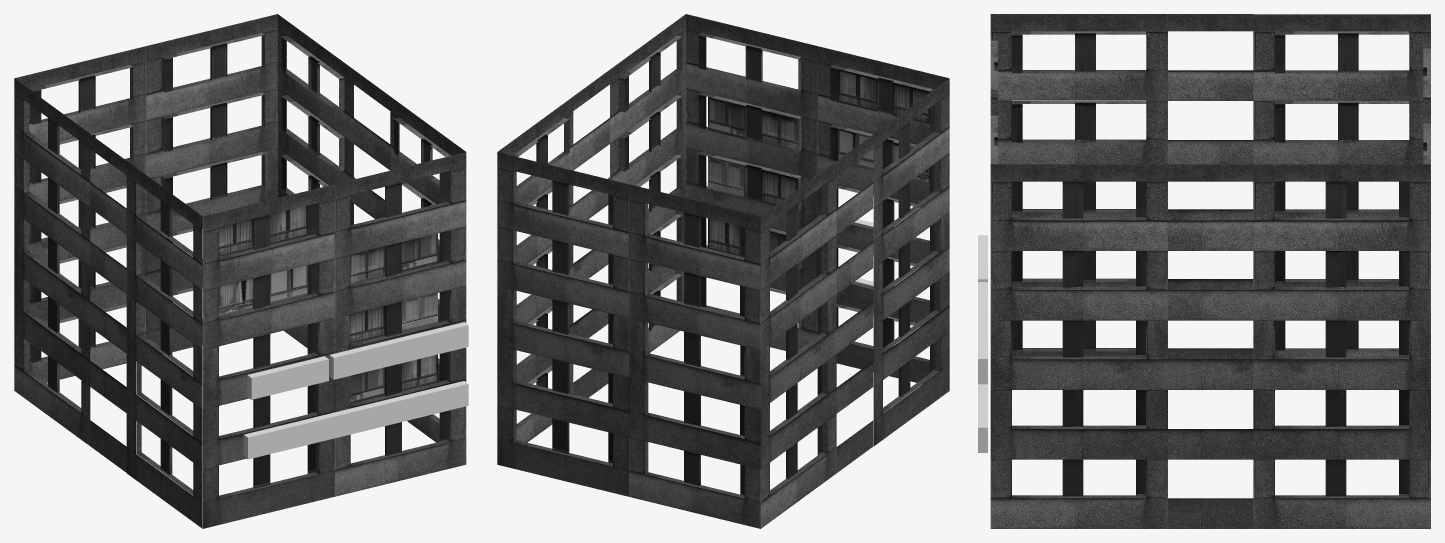
The model's file is skidrow_building_8.fbx.
3 views of the same model, side by side, from view 1: azimuth 30°, elevation 25°; view 2: azimuth 150°, elevation 25°; view 3: azimuth 270°, elevation 25° (orthographic). The views are drawn at different scales.
Parts seen in each view (by area): view 1: building_7_008, Box001, Box002, Box003, Plane023, Plane021, Plane027, Plane025, Plane022, Plane020, Plane024, Plane026 (+2 smaller); view 2: building_7_008, Plane021, Plane027, Plane025, Plane024, Plane026, Plane029, Plane020, Plane023; view 3: building_7_008, Box002, Box001.
Part boxes in pixels (left/top/right/bottom): building_7_008: left=14, top=14, right=466, bottom=528; Box001: left=243, top=381, right=468, bottom=459; Box002: left=329, top=322, right=468, bottom=379; Box003: left=247, top=356, right=328, bottom=399; Plane023: left=270, top=265, right=307, bottom=304; Plane021: left=270, top=205, right=307, bottom=244; Plane027: left=402, top=293, right=437, bottom=331; Plane025: left=402, top=233, right=437, bottom=272; Plane022: left=219, top=278, right=253, bottom=316; Plane020: left=219, top=219, right=253, bottom=257; Plane024: left=350, top=246, right=384, bottom=284; Plane026: left=350, top=306, right=384, bottom=344; building_7_008: left=497, top=14, right=949, bottom=528; Plane021: left=838, top=69, right=877, bottom=111; Plane027: left=708, top=156, right=745, bottom=198; Plane025: left=708, top=97, right=745, bottom=139; Plane024: left=761, top=110, right=798, bottom=151; Plane026: left=761, top=169, right=798, bottom=211; Plane029: left=708, top=218, right=739, bottom=256; Plane020: left=892, top=82, right=930, bottom=124; Plane023: left=838, top=128, right=873, bottom=170; building_7_008: left=990, top=14, right=1430, bottom=528; Box002: left=978, top=282, right=987, bottom=384; Box001: left=978, top=384, right=987, bottom=452.
Bounding box in the file's own units: 948 × 1073 × 1207.
